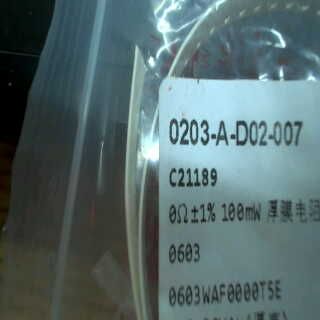0R: (166, 194, 267, 270)
